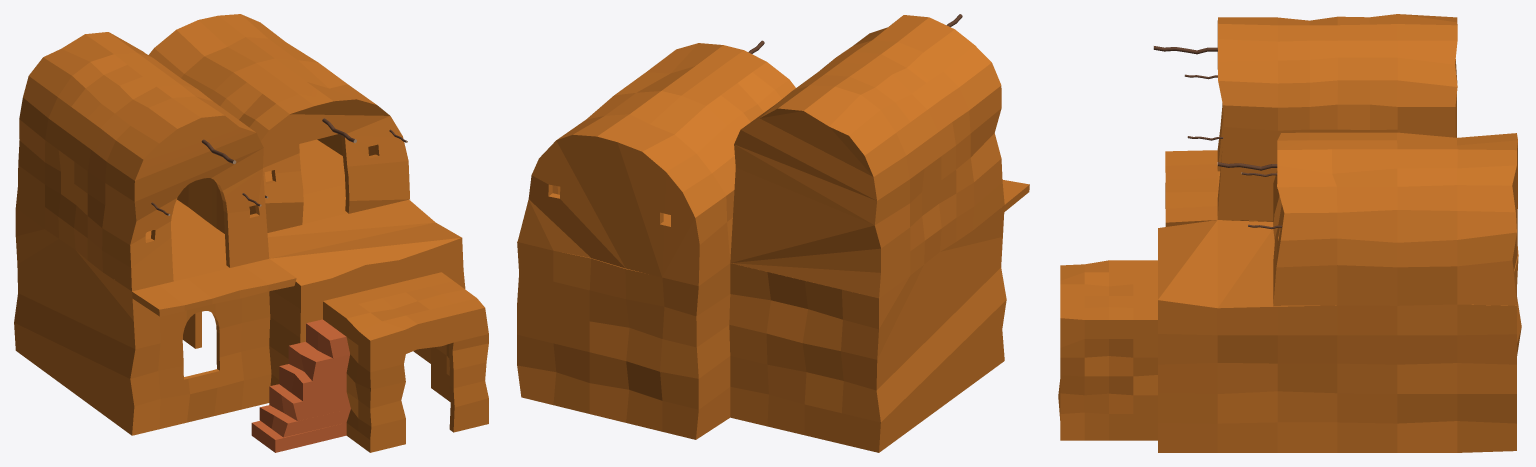
File: Tunisia_house2.fbx
3 views of the same model, side by side, from view 1: azimuth 30°, elevation 25°; view 2: azimuth 150°, elevation 25°; view 3: azimuth 270°, elevation 25° (orthographic). The views are drawn at different scales.
Parts seen in each view (by area): view 1: T3-2nd Floor, T2-1st Floor, T3-1st Floor, T2-2nd Floor, T2-stair; view 2: T3-2nd Floor, T3-1st Floor, T2-2nd Floor, T2-1st Floor; view 3: T2-1st Floor, T2-2nd Floor, T3-2nd Floor, T3-1st Floor.
Boxes of the visible parts, x1=… form: T3-2nd Floor: x1=15, y1=32, x2=269, y2=291; T2-1st Floor: x1=182, y1=139, x2=488, y2=452; T3-1st Floor: x1=14, y1=199, x2=296, y2=435; T2-2nd Floor: x1=149, y1=14, x2=409, y2=232; T2-stair: x1=251, y1=319, x2=350, y2=452; T3-2nd Floor: x1=730, y1=15, x2=1004, y2=298; T3-1st Floor: x1=729, y1=180, x2=1029, y2=452; T2-2nd Floor: x1=517, y1=43, x2=795, y2=285; T2-1st Floor: x1=517, y1=213, x2=730, y2=439; T2-1st Floor: x1=1058, y1=220, x2=1521, y2=452; T2-2nd Floor: x1=1273, y1=132, x2=1517, y2=305; T3-2nd Floor: x1=1217, y1=14, x2=1457, y2=221; T3-1st Floor: x1=1165, y1=150, x2=1273, y2=226.
Bounding box in the file's own units: 1341 × 1263 × 1702.
Materials: 3 (1 with a texture image).
